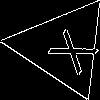X: (38, 22, 100, 76)
